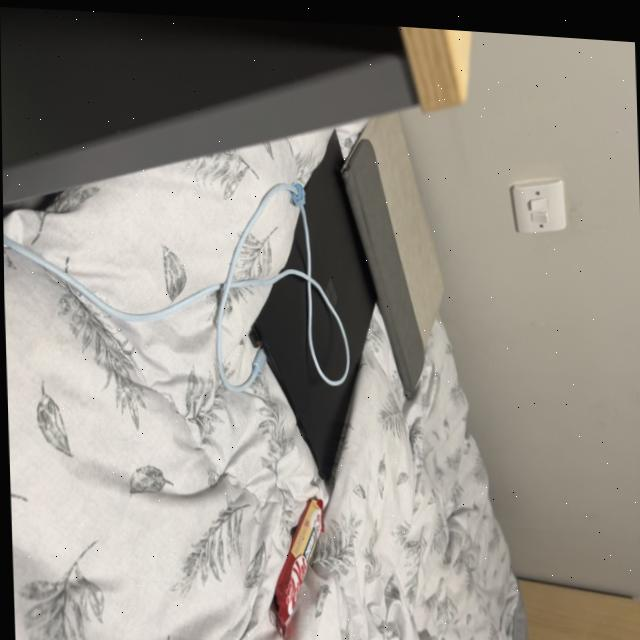chocolate: (260, 485, 331, 640)
